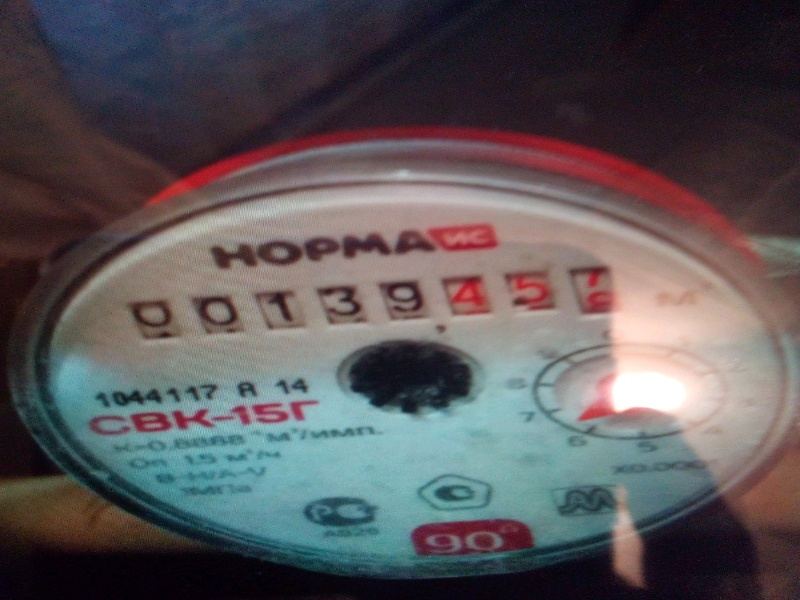meter: (111, 262, 639, 335)
